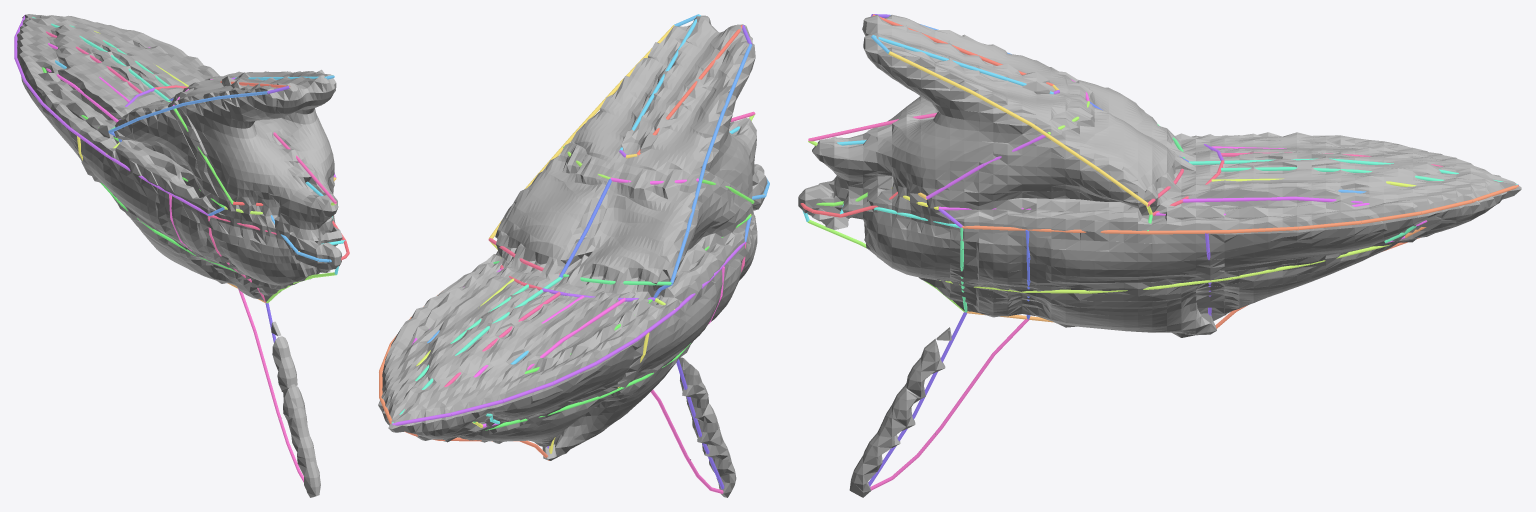
File: ils_boat.gltf
The picture shows the model from 3 angles, left to right: view 1: azimuth 30°, elevation 25°; view 2: azimuth 150°, elevation 25°; view 3: azimuth 270°, elevation 25°; orthographic projection. The views are drawn at different scales.
Size of the model in its own units: 0.2458 by 0.5744 by 0.7963.
